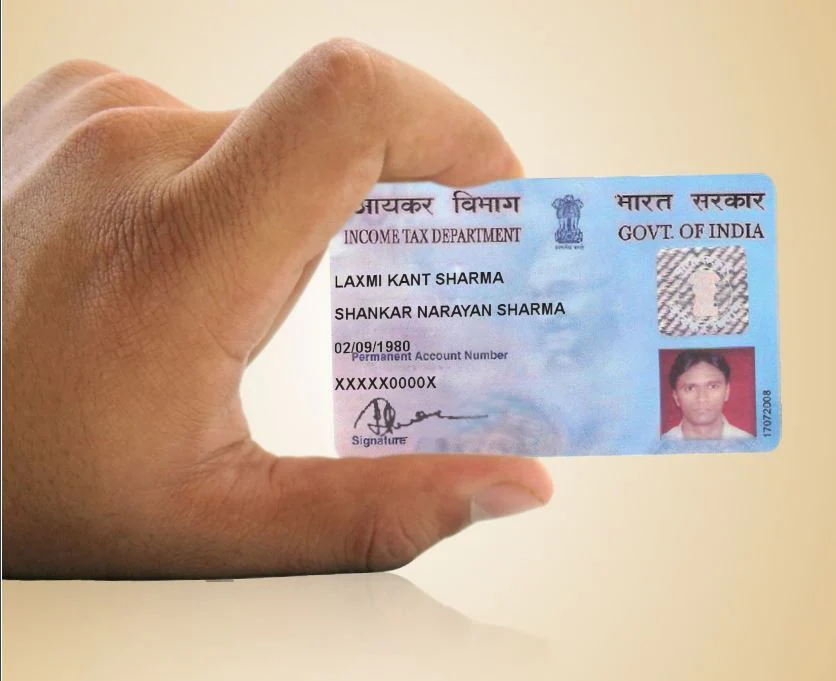pan: (329, 179, 777, 450)
